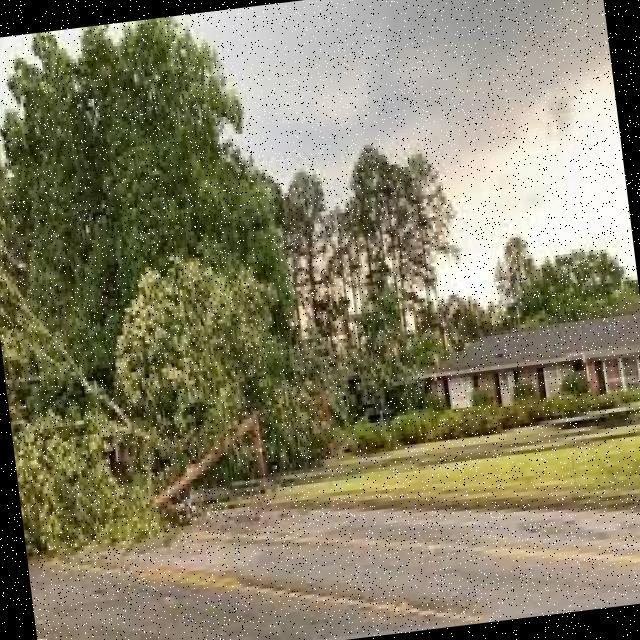fallen_object: (8, 374, 272, 552)
